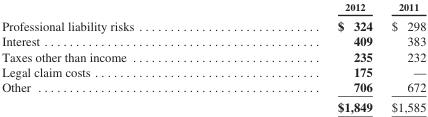table: (1, 0, 425, 113)
table column: (1, 0, 235, 113), (235, 0, 381, 113), (381, 0, 425, 113)
table column header: (1, 0, 425, 15)
table row: (1, 15, 425, 33), (1, 78, 425, 96), (1, 96, 425, 113), (1, 0, 425, 15), (1, 33, 425, 48), (1, 48, 425, 63), (1, 63, 425, 78)
